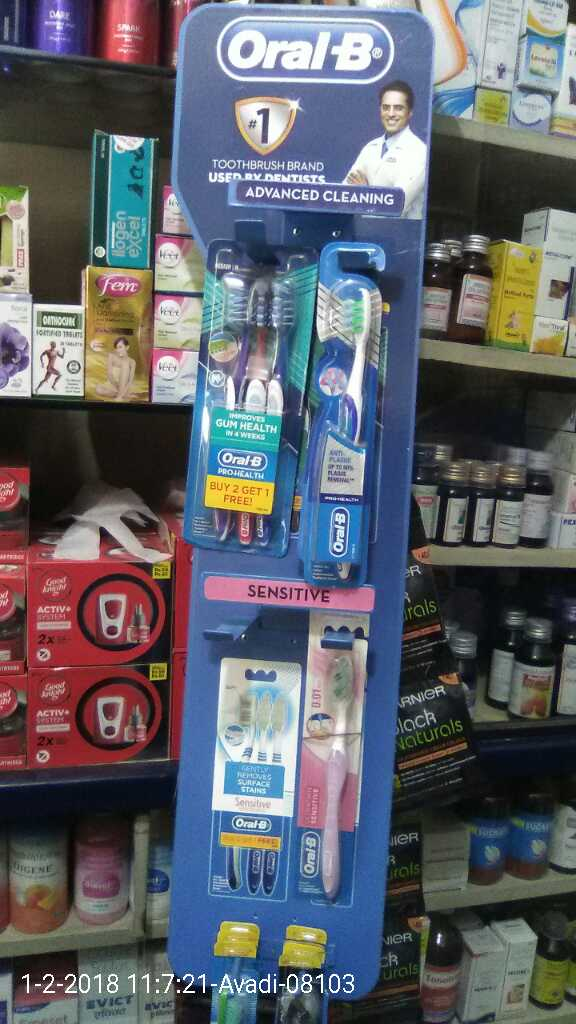oralb: (179, 246, 297, 571), (297, 271, 376, 577), (298, 649, 376, 896)
